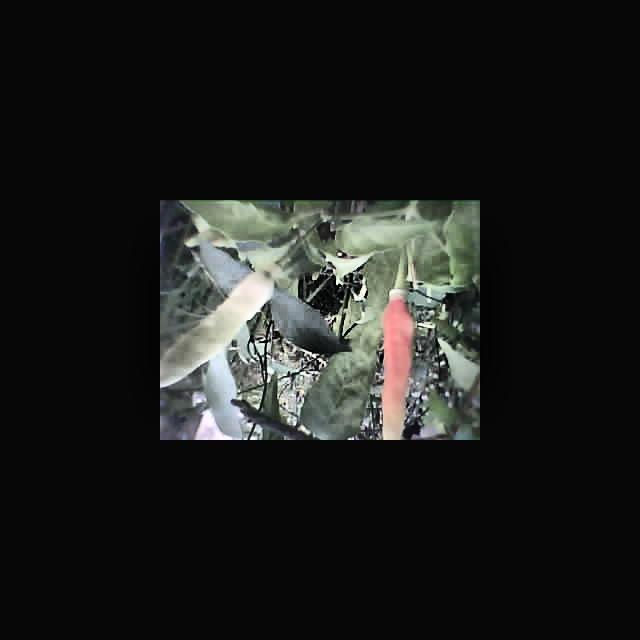Cabai: (376, 289, 417, 440)
